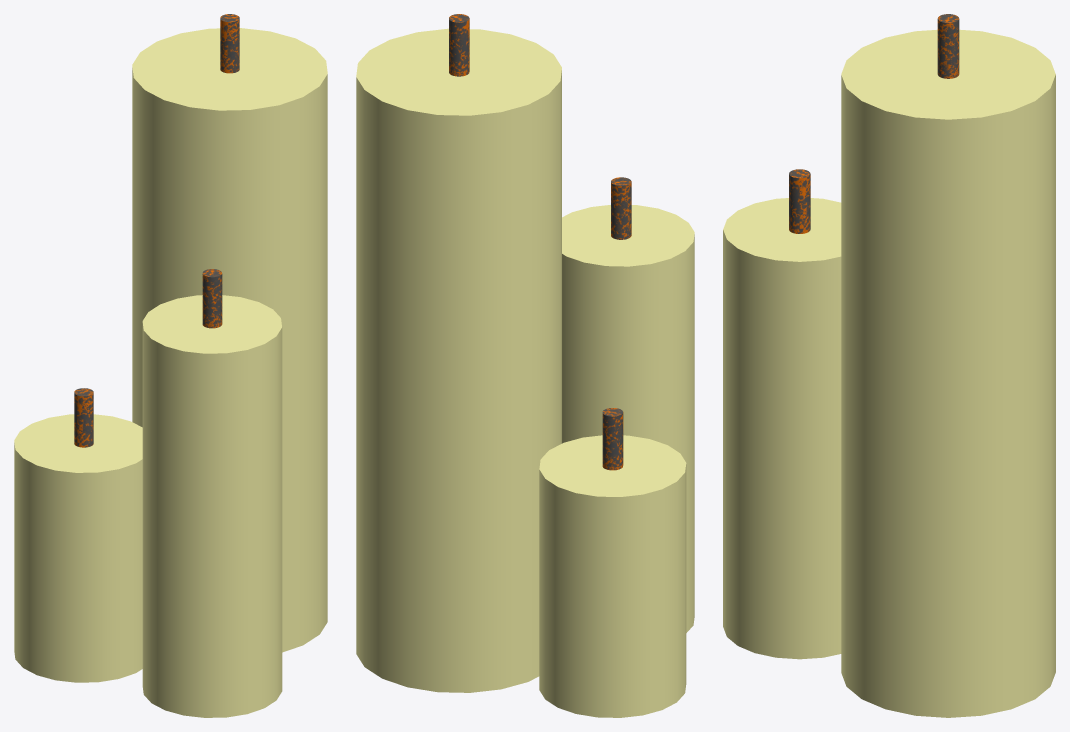
The model's file is M_Candele.fbx.
3 renders of one model, left to right at view 1: azimuth 30°, elevation 25°; view 2: azimuth 150°, elevation 25°; view 3: azimuth 270°, elevation 25°, orthographic. The views are drawn at different scales.
Visible parts, largest first — view 1: Candele; view 2: Candele; view 3: Candele.
Boxes of the visible parts, x1,y1,x2,y2 form: Candele: [14, 14, 327, 717]; Candele: [356, 14, 694, 717]; Candele: [723, 14, 1055, 717].
Bounding box in the file's own units: 0.4401 × 0.8636 × 0.3981.
